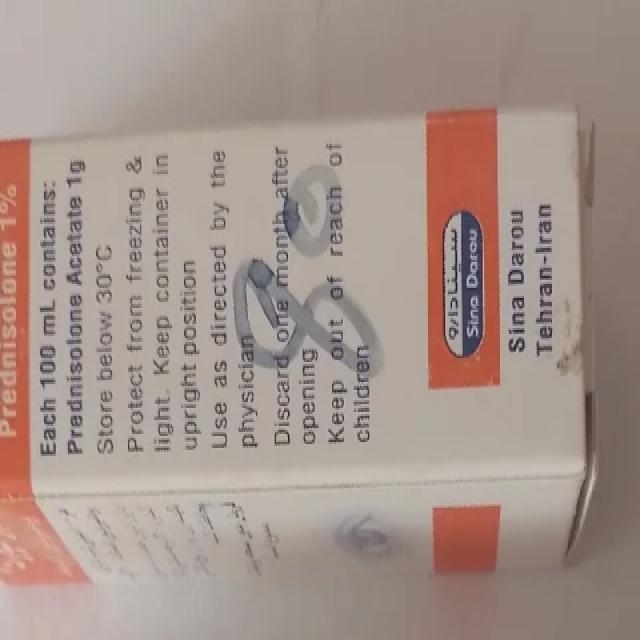drug-name: (0, 182, 21, 446)
